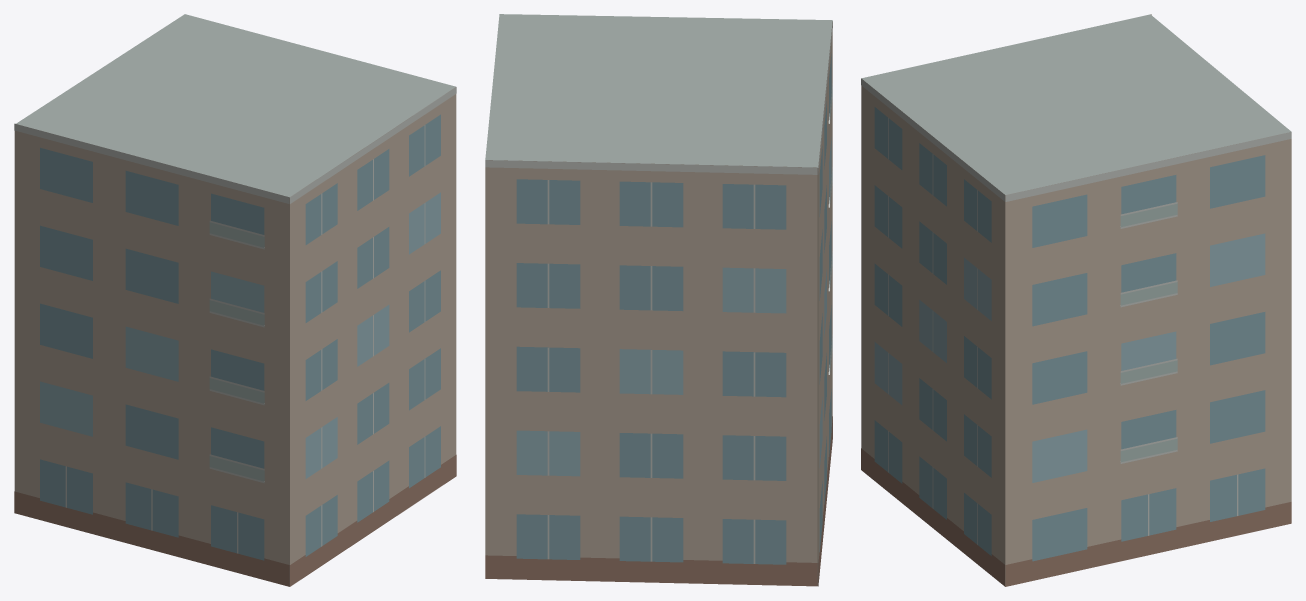
Rendered from survey-upis-32904045.glb.
3 renders of one model, left to right at view 1: azimuth 30°, elevation 25°; view 2: azimuth 150°, elevation 25°; view 3: azimuth 270°, elevation 25°, orthographic. The views are drawn at different scales.
Parts seen in each view (by area): view 1: survey-upis-32904045.tmp; view 2: survey-upis-32904045.tmp; view 3: survey-upis-32904045.tmp.
Boxes of the visible parts, x1=… form: survey-upis-32904045.tmp: x1=14, y1=14, x2=456, y2=586; survey-upis-32904045.tmp: x1=485, y1=14, x2=832, y2=586; survey-upis-32904045.tmp: x1=861, y1=14, x2=1291, y2=586.
Bounding box in the file's own units: 13.6 × 13.7 × 13.66.
